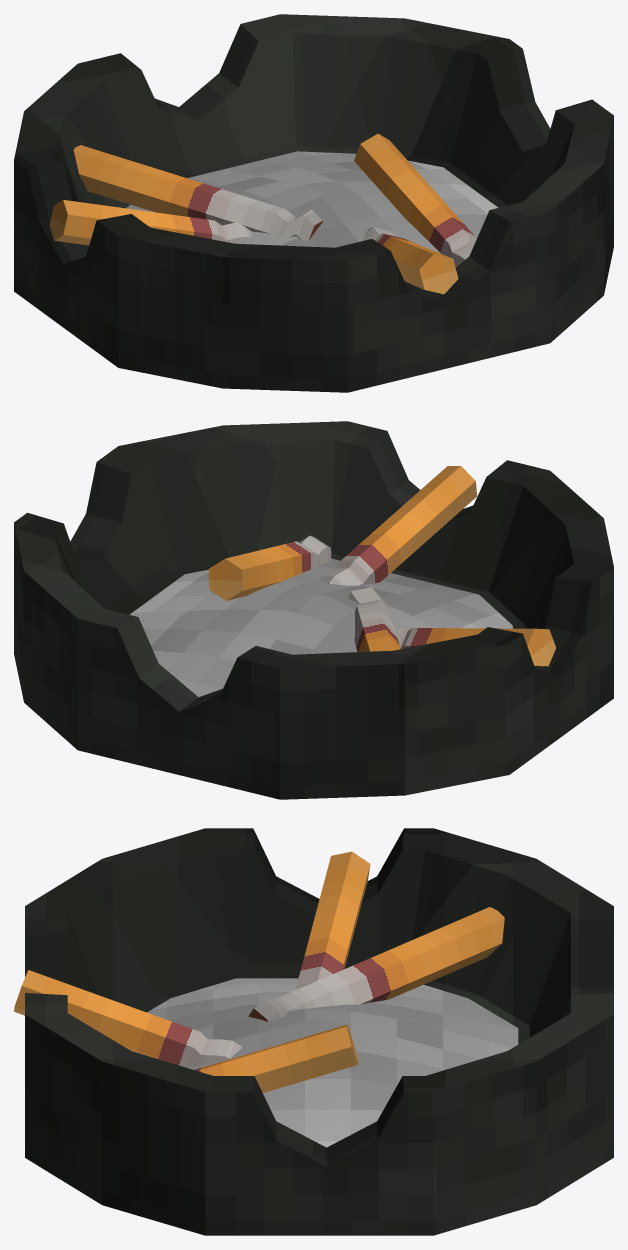
Rendered from AshtrayFull.fbx.
3 views of the same model, one above another, from view 1: azimuth 30°, elevation 25°; view 2: azimuth 150°, elevation 25°; view 3: azimuth 270°, elevation 25° (orthographic). The views are drawn at different scales.
Visible parts, largest first — view 1: AshtrayWithCigarettes; view 2: AshtrayWithCigarettes; view 3: AshtrayWithCigarettes.
Boxes of the visible parts, left/top/right/bottom form: AshtrayWithCigarettes: left=14, top=14, right=613, bottom=392; AshtrayWithCigarettes: left=14, top=421, right=613, bottom=799; AshtrayWithCigarettes: left=14, top=828, right=613, bottom=1235.
Size of the model in its own units: 0.0865 by 0.0219 by 0.0831.
Materials: 2 (2 with a texture image).
